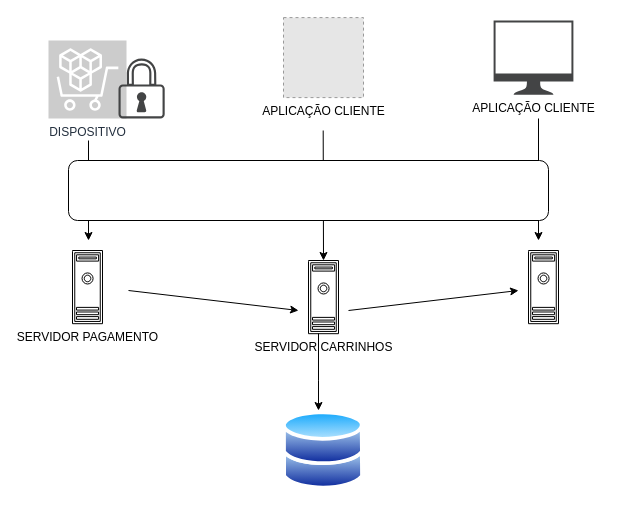
Image size: 621x532. Some labels were removed from this diagram. Grey dashed boxes stand in for pictures. The centre of each missing label's shape, as x and y in pixels:
"BANCO DE DADOS" belongs at point (323, 450).
"MIDDLEWARE" belongs at point (308, 190).
"SERVIDOR SORTEIO" belongs at point (543, 287).
